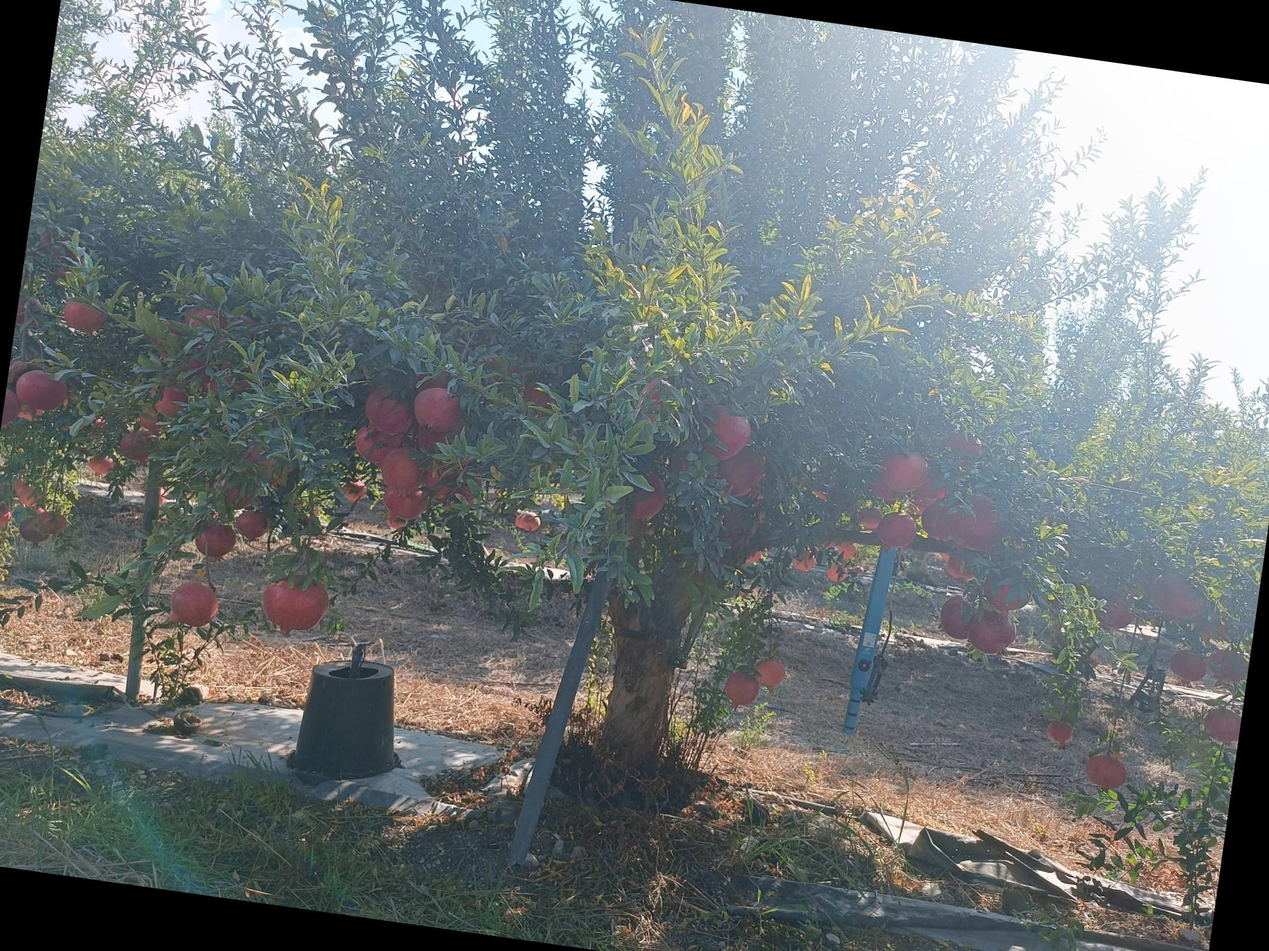pomegranates: (257, 571, 332, 642), (940, 490, 1009, 557), (691, 400, 754, 465), (420, 452, 486, 512), (702, 443, 769, 502), (11, 365, 71, 424), (361, 381, 419, 442), (1146, 569, 1209, 625), (965, 606, 1019, 663), (377, 443, 429, 502), (978, 570, 1033, 624), (164, 578, 221, 630), (411, 385, 466, 438), (619, 468, 670, 524), (878, 446, 931, 497), (352, 423, 401, 473), (171, 347, 219, 398), (144, 317, 192, 365), (520, 374, 568, 421), (60, 295, 110, 339), (666, 446, 722, 485), (238, 441, 284, 488), (874, 509, 918, 557), (1082, 751, 1129, 795), (192, 521, 239, 564), (917, 500, 958, 548), (938, 594, 979, 641), (381, 483, 431, 521), (116, 429, 161, 470), (1201, 706, 1242, 750), (1167, 648, 1209, 690), (1205, 647, 1250, 686), (221, 469, 260, 514), (721, 668, 759, 713), (1092, 593, 1137, 631), (6, 357, 50, 394), (150, 384, 192, 419), (17, 515, 55, 552), (751, 657, 787, 696), (637, 377, 672, 412), (189, 306, 229, 336), (235, 509, 270, 543), (0, 385, 24, 432), (15, 293, 46, 329), (32, 509, 69, 539), (945, 555, 980, 586), (1043, 719, 1074, 752), (137, 406, 169, 436), (87, 451, 118, 479), (855, 505, 883, 533), (17, 483, 45, 509), (228, 310, 258, 334), (340, 477, 368, 502), (790, 550, 816, 576), (383, 511, 408, 534), (826, 560, 849, 583), (743, 544, 765, 567), (520, 512, 542, 534), (835, 541, 856, 564), (948, 430, 968, 450), (0, 504, 13, 532), (966, 437, 983, 456), (12, 475, 28, 495), (514, 512, 528, 531), (819, 538, 835, 552)
